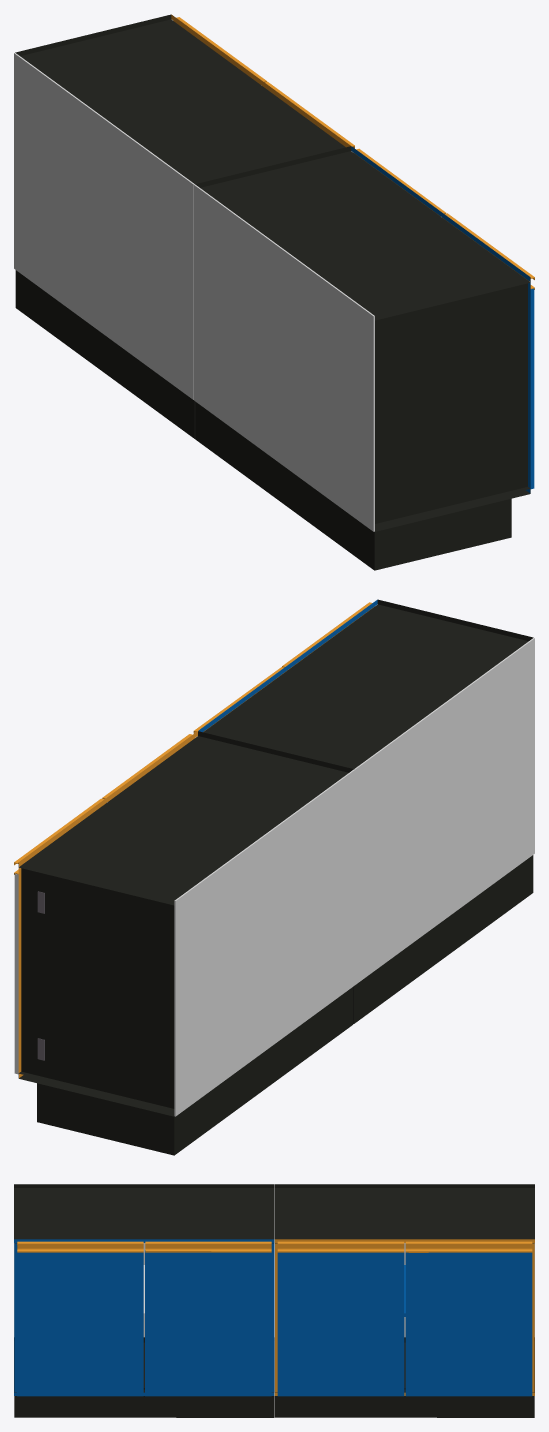
Rendered from portem2acmini.glb.
3 views of the same model, one above another, from view 1: azimuth 30°, elevation 25°; view 2: azimuth 150°, elevation 25°; view 3: azimuth 270°, elevation 25° (orthographic). The views are drawn at different scales.
Visible parts, largest first — view 1: BODY.001, BACK.001, BACK, BODY, BASE.001, BASE, EDGE TAPE.001, EDGE TAPE DOOR.002, EDGE TAPE; view 2: BODY, BACK, BACK.001, BODY.001, BASE, BASE.001, EDGE TAPE, EDGE TAPE DOOR.001, EDGE TAPE.001; view 3: DOOR, DOOR.001, DOOR.002, DOOR.003, BODY, BODY.001, BASE, BASE.001, EDGE TAPE.001, EDGE TAPE, PULLER, PULLER.001 (+4 smaller).
Boxes of the visible parts, x1,y1,x2,y2 form: BODY.001: (195, 146, 530, 531); BACK.001: (194, 184, 374, 531); BACK: (14, 53, 194, 399); BODY: (15, 14, 345, 183); BASE.001: (195, 401, 511, 570); BASE: (15, 270, 195, 438); EDGE TAPE.001: (351, 146, 530, 492); EDGE TAPE DOOR.002: (530, 288, 534, 489); EDGE TAPE: (171, 14, 350, 147); BODY: (18, 731, 353, 1116); BACK: (174, 769, 355, 1116); BACK.001: (354, 638, 534, 984); BODY.001: (203, 599, 533, 768); BASE: (37, 987, 353, 1155); BASE.001: (353, 855, 533, 1023); EDGE TAPE: (18, 731, 197, 1077); EDGE TAPE DOOR.001: (14, 873, 18, 1074); EDGE TAPE.001: (198, 599, 377, 732); DOOR: (277, 1252, 404, 1396); DOOR.001: (405, 1252, 532, 1396); DOOR.002: (17, 1252, 143, 1396); DOOR.003: (145, 1252, 271, 1396); BODY: (274, 1184, 534, 1392); BODY.001: (14, 1184, 274, 1392); BASE: (274, 1341, 534, 1417); BASE.001: (14, 1341, 274, 1417); EDGE TAPE.001: (14, 1239, 274, 1395); EDGE TAPE: (274, 1239, 534, 1395); PULLER: (277, 1241, 404, 1252); PULLER.001: (405, 1241, 532, 1252).
Bounding box in the file's own units: 0.5263 × 0.785 × 2.
